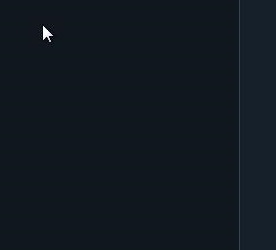cursor: (41, 25, 54, 44)
